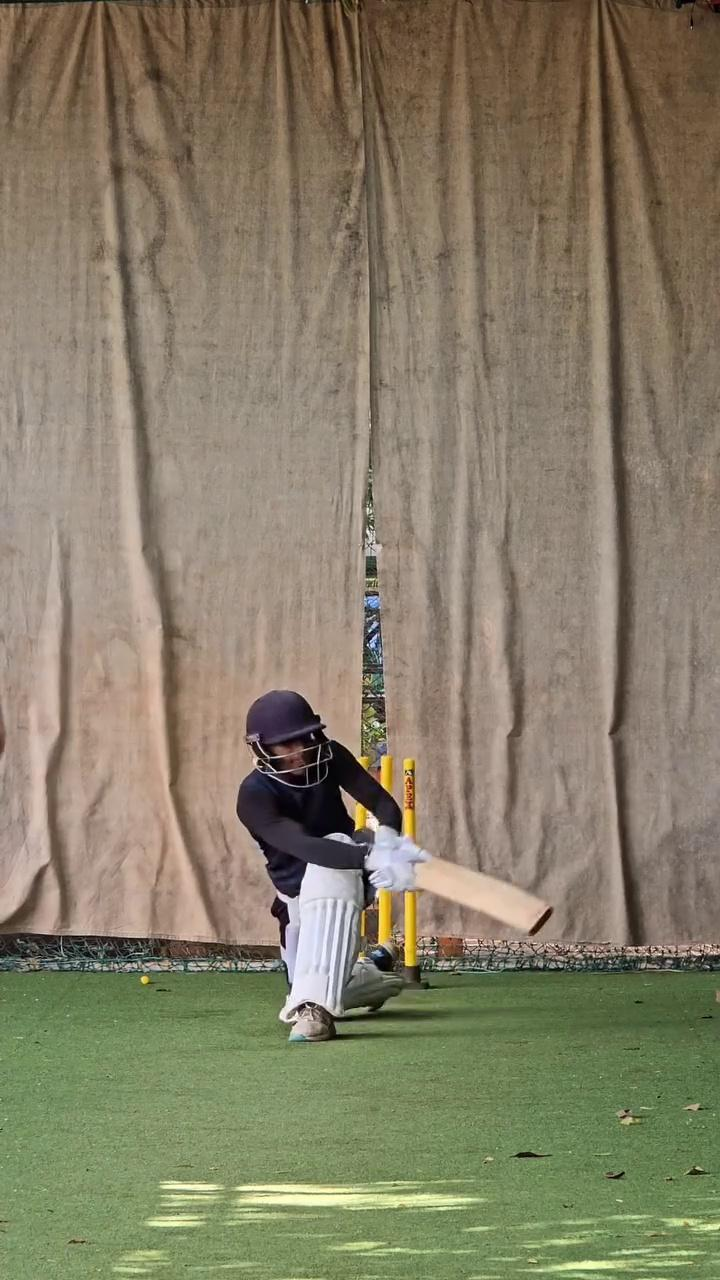bat: (414, 854, 558, 942)
